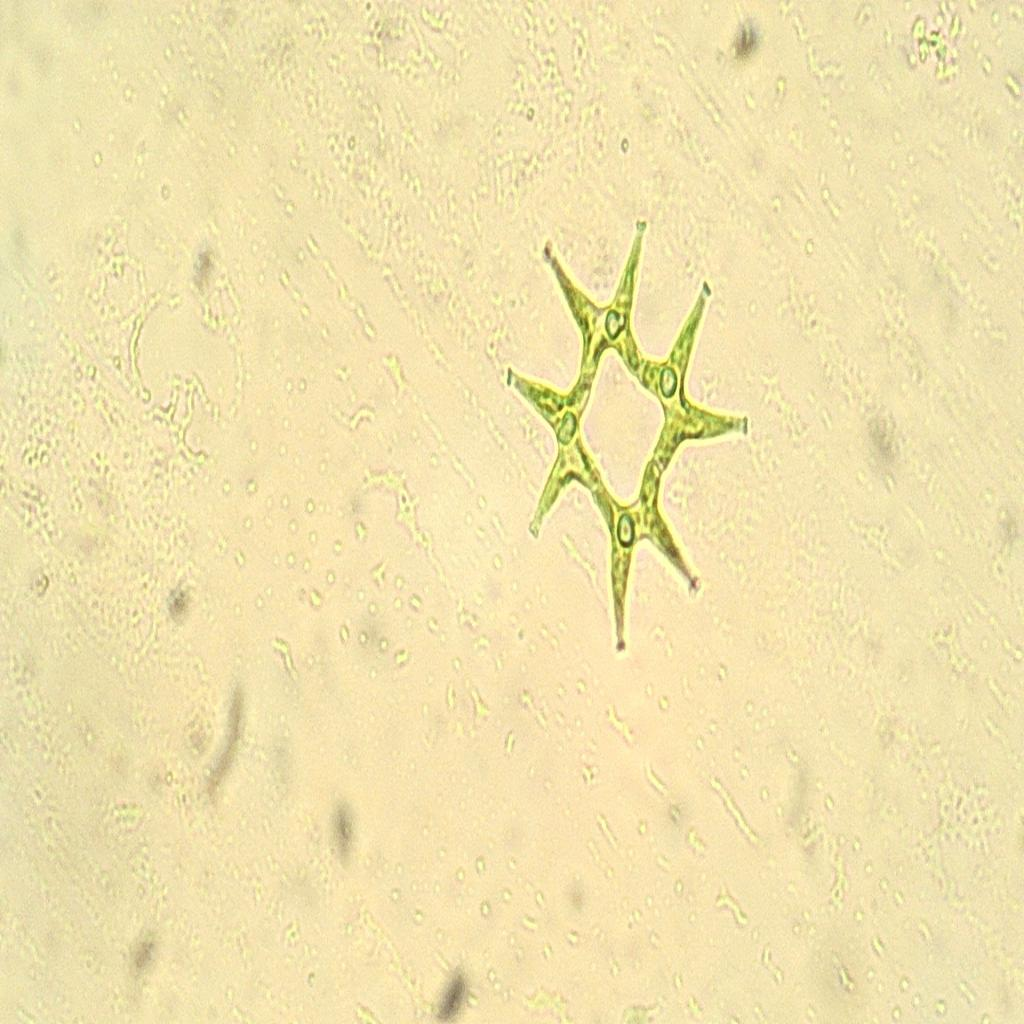Pediastrum_75O: (492, 206, 761, 668)
